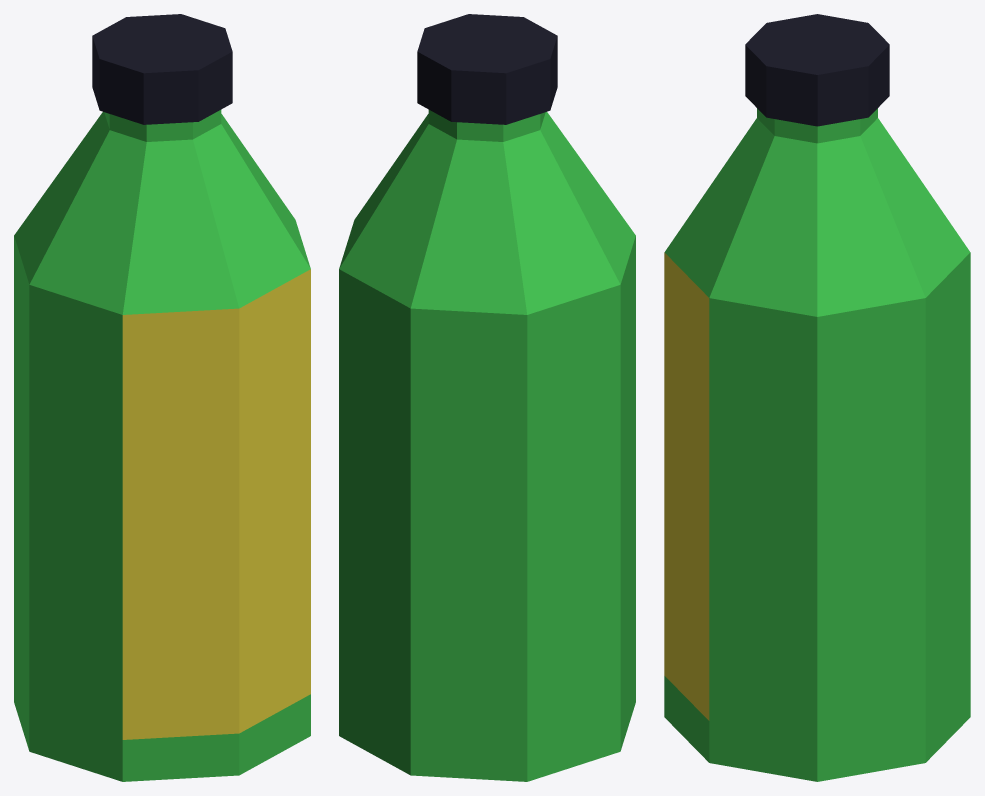
File: Botella.001.glb
The picture shows the model from 3 angles, left to right: view 1: azimuth 30°, elevation 25°; view 2: azimuth 150°, elevation 25°; view 3: azimuth 270°, elevation 25°; orthographic projection.
Visible parts, largest first — view 1: Botella.001; view 2: Botella.001; view 3: Botella.001.
Boxes of the visible parts, x1,y1,x2,y2 form: Botella.001: [14, 14, 310, 781]; Botella.001: [339, 14, 635, 781]; Botella.001: [664, 14, 970, 781].
Bounding box in the file's own units: 1.63 × 3.95 × 1.63.
